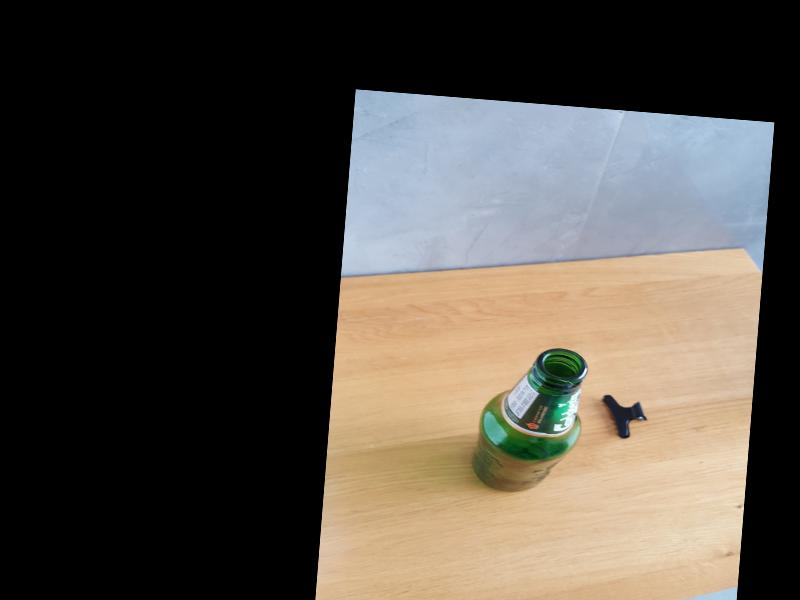Beer: (469, 342, 589, 499)
